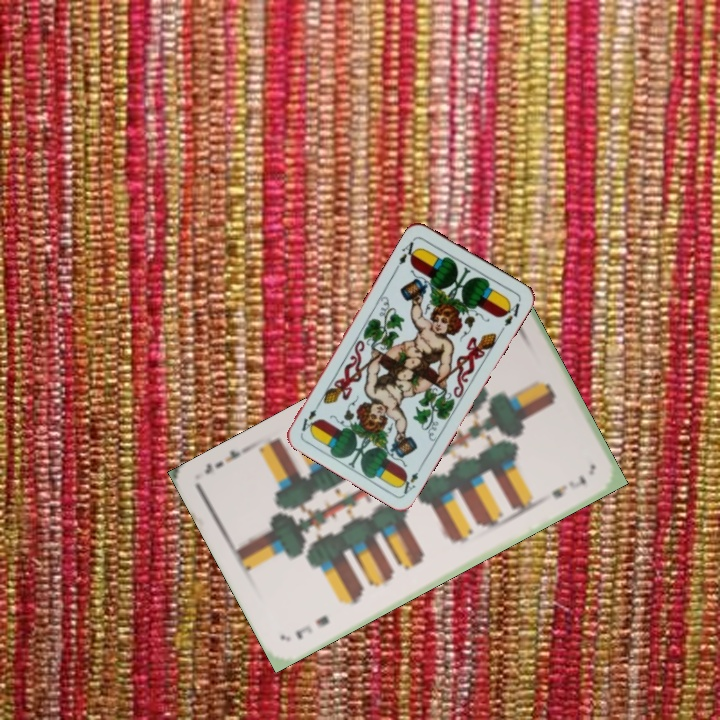E7: (291, 611, 332, 642)
EA: (396, 460, 426, 497), (392, 237, 421, 272)
